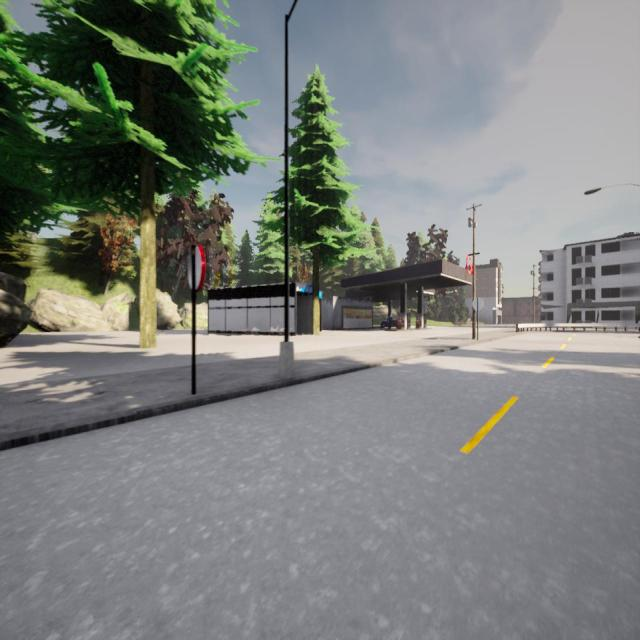Traffic_Signs: (187, 247, 205, 291), (473, 298, 483, 311)
Vehicle: (381, 316, 396, 329)
